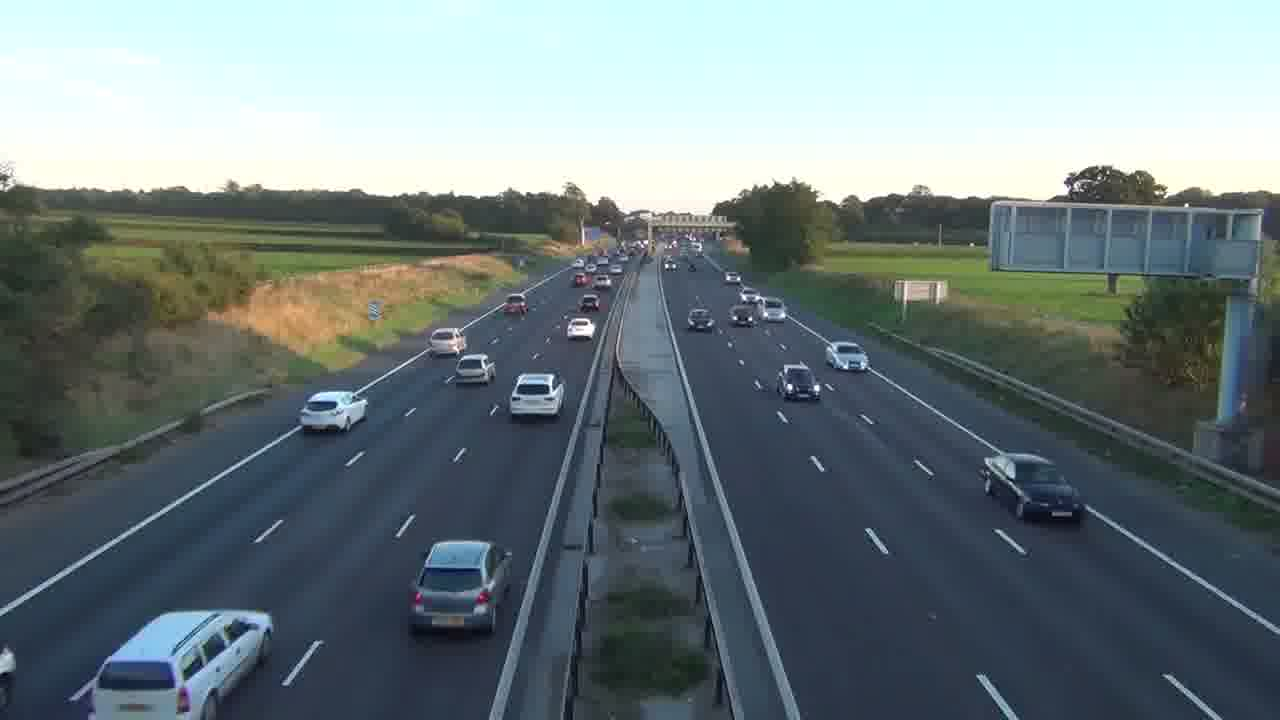car: (88, 608, 274, 718), (407, 539, 514, 637), (979, 452, 1085, 522), (299, 389, 367, 434), (509, 370, 566, 419), (777, 362, 821, 403), (825, 340, 869, 373), (455, 352, 496, 386), (566, 317, 595, 341)
truck: (88, 608, 274, 718)
